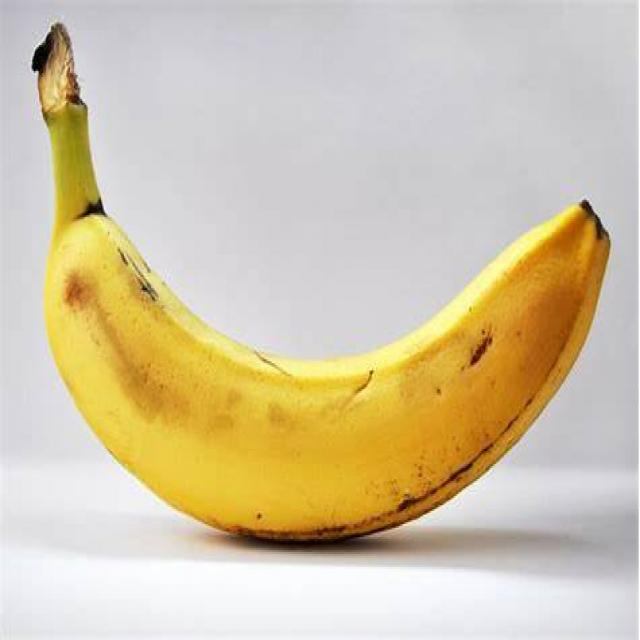Banana: (28, 27, 615, 545)
